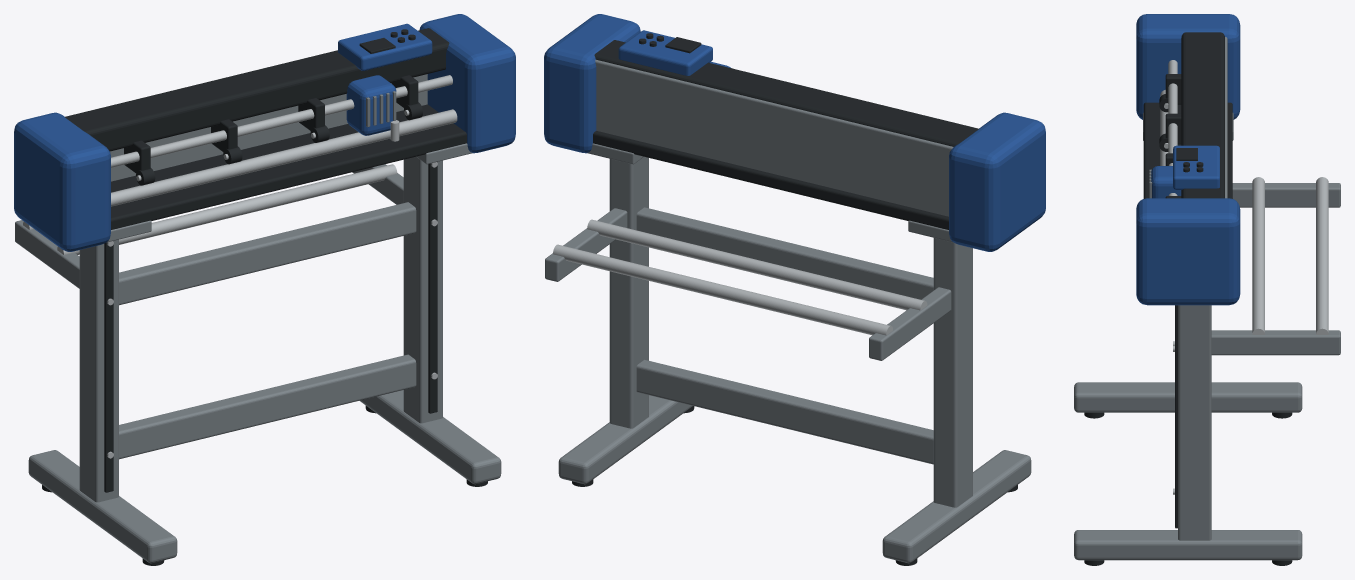
File: full.fbx
The picture shows the model from 3 angles, left to right: view 1: azimuth 30°, elevation 25°; view 2: azimuth 150°, elevation 25°; view 3: azimuth 270°, elevation 25°; orthographic projection. The views are drawn at different scales.
Parts seen in each view (by area): view 1: Long upper rail housing, Feed chassis, Rounded end housing -0.65, Lower crossbrace, Upper crossbrace, Rounded end housing 0.65, Stand leg -0.52, Stand leg 0.52, Broad foot -0.52, Feed roller, Broad foot 0.52, Rail rear bridge (+8 smaller); view 2: Rail rear bridge, Rounded end housing -0.65, Lower crossbrace, Stand leg -0.52, Stand leg 0.52, Long upper rail housing, Upper crossbrace, Rounded end housing 0.65, Broad foot -0.52, Feed chassis, Rear media support roller 0.21, Rear media support roller 0.4 (+4 smaller); view 3: Rounded end housing 0.65, Stand leg 0.52, Broad foot 0.52, Broad foot -0.52, Rounded end housing -0.65, Long upper rail housing, Rear media bracket 0.52, Rear media bracket -0.52, Rear media support roller 0.4, Rear media support roller 0.21, Feed chassis, Top control console (+5 smaller).
Boxes of the visible parts, bbox=[...] form: Long upper rail housing: bbox=[65, 28, 449, 151]; Feed chassis: bbox=[111, 104, 466, 229]; Rounded end housing -0.65: bbox=[14, 112, 110, 251]; Lower crossbrace: bbox=[119, 354, 416, 459]; Upper crossbrace: bbox=[119, 202, 416, 305]; Rounded end housing 0.65: bbox=[419, 14, 515, 153]; Stand leg -0.52: bbox=[79, 239, 118, 502]; Stand leg 0.52: bbox=[403, 156, 442, 423]; Broad foot -0.52: bbox=[28, 450, 177, 563]; Feed roller: bbox=[111, 109, 457, 206]; Broad foot 0.52: bbox=[359, 390, 501, 484]; Rail rear bridge: bbox=[110, 74, 427, 181]; Rail rear bridge: bbox=[595, 59, 953, 216]; Rounded end housing -0.65: bbox=[949, 112, 1045, 251]; Lower crossbrace: bbox=[636, 359, 933, 464]; Stand leg -0.52: bbox=[933, 238, 972, 507]; Stand leg 0.52: bbox=[609, 156, 648, 428]; Long upper rail housing: bbox=[594, 40, 978, 146]; Upper crossbrace: bbox=[636, 207, 933, 299]; Rounded end housing 0.65: bbox=[544, 14, 640, 153]; Broad foot -0.52: bbox=[882, 450, 1031, 563]; Feed chassis: bbox=[593, 131, 948, 229]; Rear media support roller 0.21: bbox=[587, 219, 927, 310]; Rear media support roller 0.4: bbox=[553, 244, 892, 335]; Rounded end housing 0.65: bbox=[1136, 198, 1240, 305]; Stand leg 0.52: bbox=[1178, 305, 1211, 540]; Broad foot 0.52: bbox=[1074, 530, 1302, 560]; Broad foot -0.52: bbox=[1074, 382, 1302, 412]; Rounded end housing -0.65: bbox=[1136, 14, 1240, 119]; Long upper rail housing: bbox=[1181, 32, 1224, 198]; Rear media bracket 0.52: bbox=[1211, 330, 1340, 355]; Rear media bracket -0.52: bbox=[1232, 183, 1340, 207]; Rear media support roller 0.4: bbox=[1316, 177, 1328, 334]; Rear media support roller 0.21: bbox=[1252, 177, 1264, 334]; Feed chassis: bbox=[1143, 102, 1232, 198]; Top control console: bbox=[1173, 145, 1219, 189].
Size of the model in its own units: 146 by 127 by 79.5.
